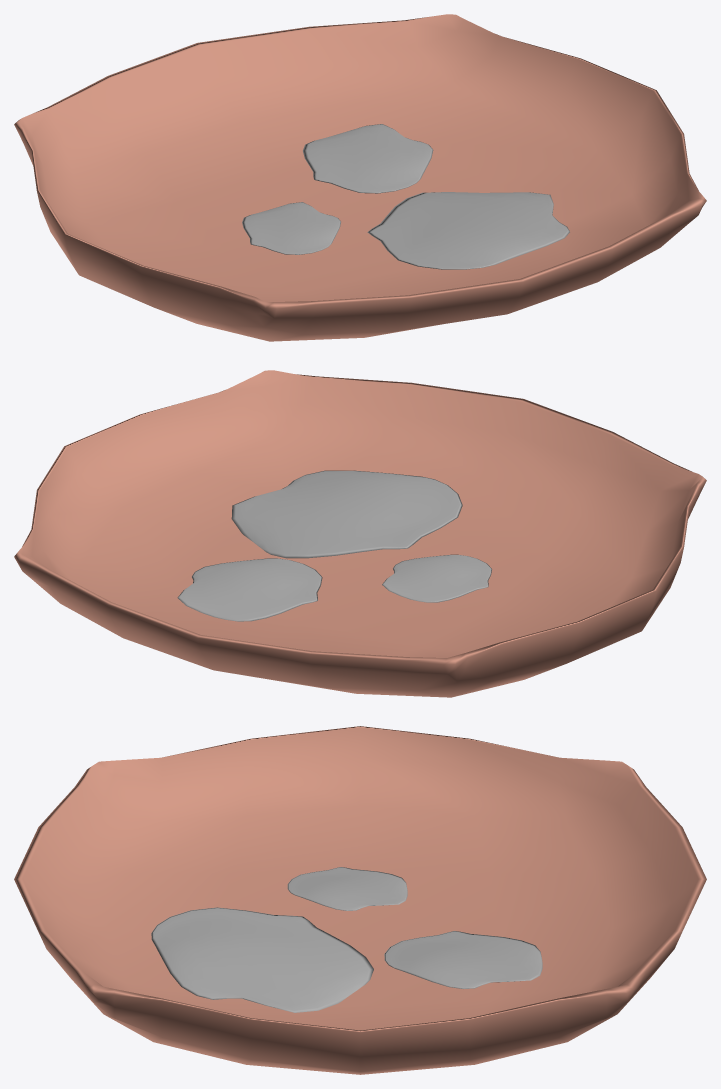
Rendered from Spaghetti_Empty.fbx.
3 views of the same model, one above another, from view 1: azimuth 30°, elevation 25°; view 2: azimuth 150°, elevation 25°; view 3: azimuth 270°, elevation 25° (orthographic). The views are drawn at different scales.
Visible parts, largest first — view 1: spaghetti_dishes:plate1, spaghetti_dishes:sauce02, spaghetti_dishes:sauce01, spaghetti_dishes:sauce03; view 2: spaghetti_dishes:plate1, spaghetti_dishes:sauce02, spaghetti_dishes:sauce01, spaghetti_dishes:sauce03; view 3: spaghetti_dishes:plate1, spaghetti_dishes:sauce02, spaghetti_dishes:sauce01, spaghetti_dishes:sauce03.
Boxes of the visible parts, x1,y1,x2,y2 form: spaghetti_dishes:plate1: [14, 14, 706, 341]; spaghetti_dishes:sauce02: [367, 192, 569, 269]; spaghetti_dishes:sauce01: [303, 124, 433, 193]; spaghetti_dishes:sauce03: [242, 202, 340, 254]; spaghetti_dishes:plate1: [14, 370, 706, 697]; spaghetti_dishes:sauce02: [231, 470, 462, 558]; spaghetti_dishes:sauce01: [177, 558, 322, 621]; spaghetti_dishes:sauce03: [382, 554, 491, 602]; spaghetti_dishes:plate1: [14, 726, 706, 1074]; spaghetti_dishes:sauce02: [151, 907, 373, 1012]; spaghetti_dishes:sauce01: [384, 931, 542, 988]; spaghetti_dishes:sauce03: [287, 867, 407, 910].
Size of the model in its own units: 10.63 by 1.4 by 10.15.
